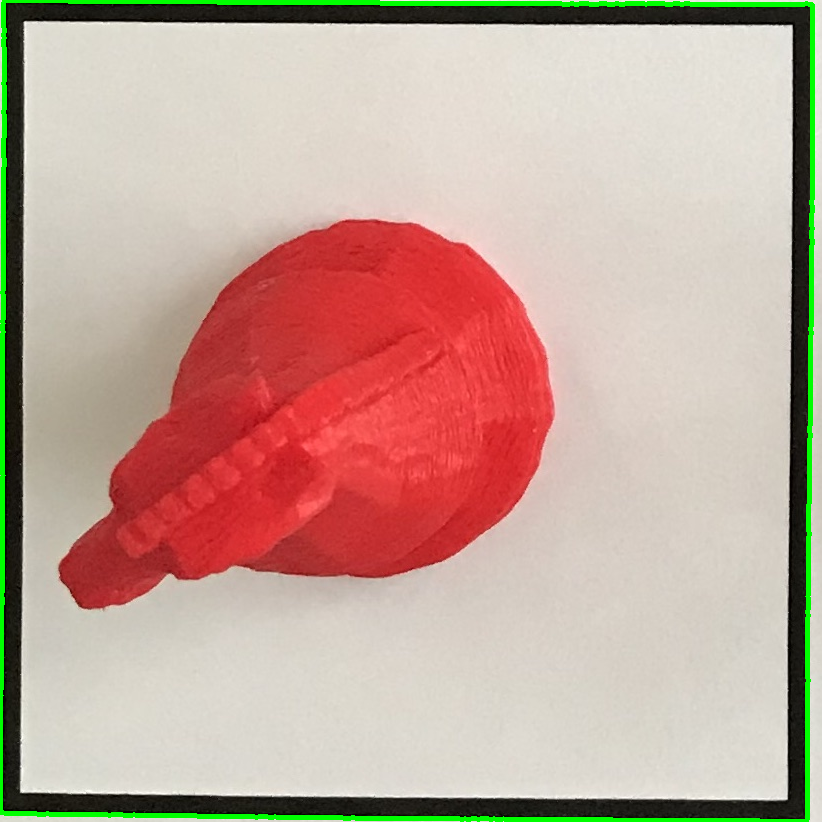Red Knight: (48, 202, 564, 674)
